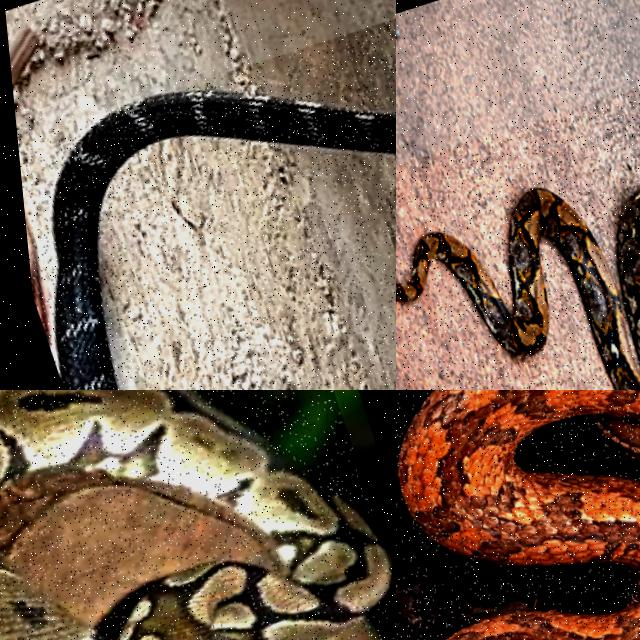Malayopython reticulatus: (396, 188, 639, 389)
Ophiophagus hannah: (51, 90, 395, 389)
Ovophis monticola: (399, 390, 639, 639)
Python bivittatus: (0, 390, 390, 639)
snake: (51, 90, 395, 389), (0, 390, 390, 639), (399, 390, 639, 639), (396, 188, 639, 389)
